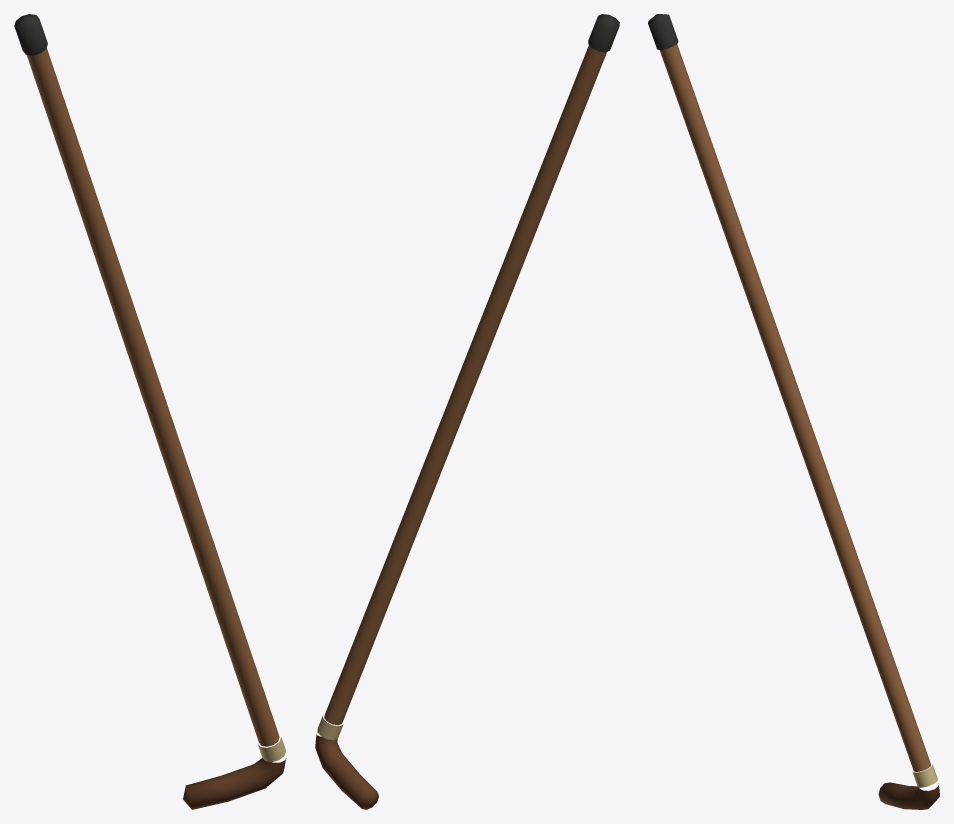
Rendered from old-cane-rafael-rose.glb.
3 views of the same model, side by side, from view 1: azimuth 30°, elevation 25°; view 2: azimuth 150°, elevation 25°; view 3: azimuth 330°, elevation 25° (orthographic). The views are drawn at different scales.
Visible parts, largest first — view 1: Acc_Male_Hand_Cane; view 2: Acc_Male_Hand_Cane; view 3: Acc_Male_Hand_Cane.
Part boxes in pixels (x1,y1,x2,y2): Acc_Male_Hand_Cane: (14, 14, 286, 809); Acc_Male_Hand_Cane: (315, 14, 619, 809); Acc_Male_Hand_Cane: (648, 14, 939, 809).
Size of the model in its own units: 0.1661 by 0.4688 by 0.0591.
